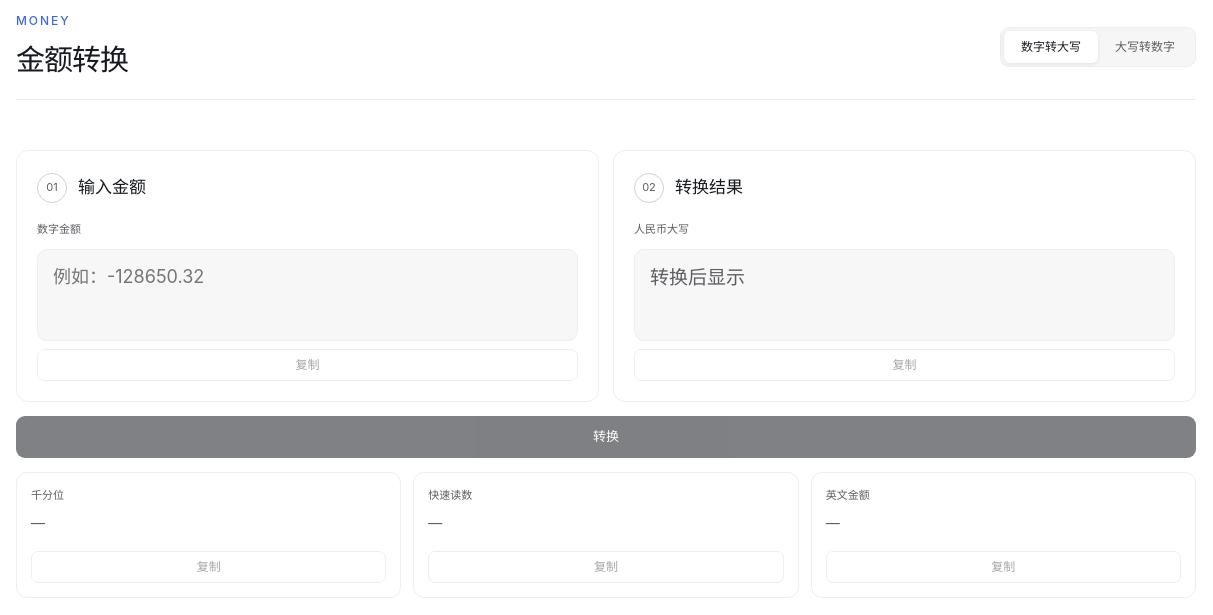
keeps invalid input visible and shows the API error inline
Step 1. Type "1.001" into the text box labelled "数字金额" → (308, 294), box [53,262,562,326]
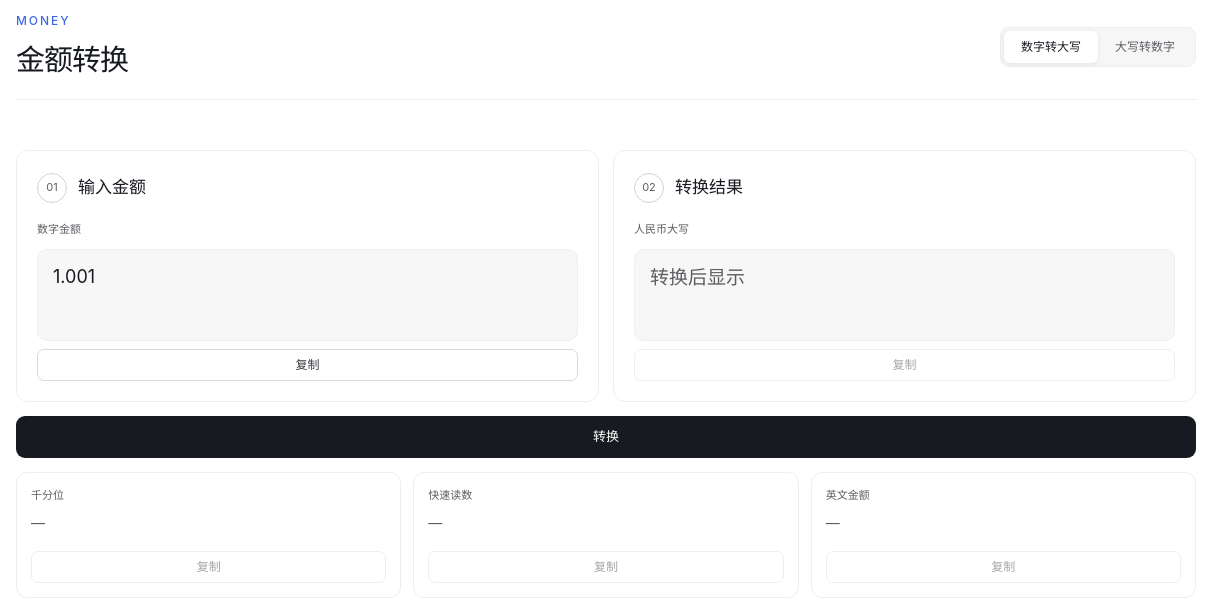
Step 2. Click the button "转换" → (606, 436), box [16,416,1196,458]
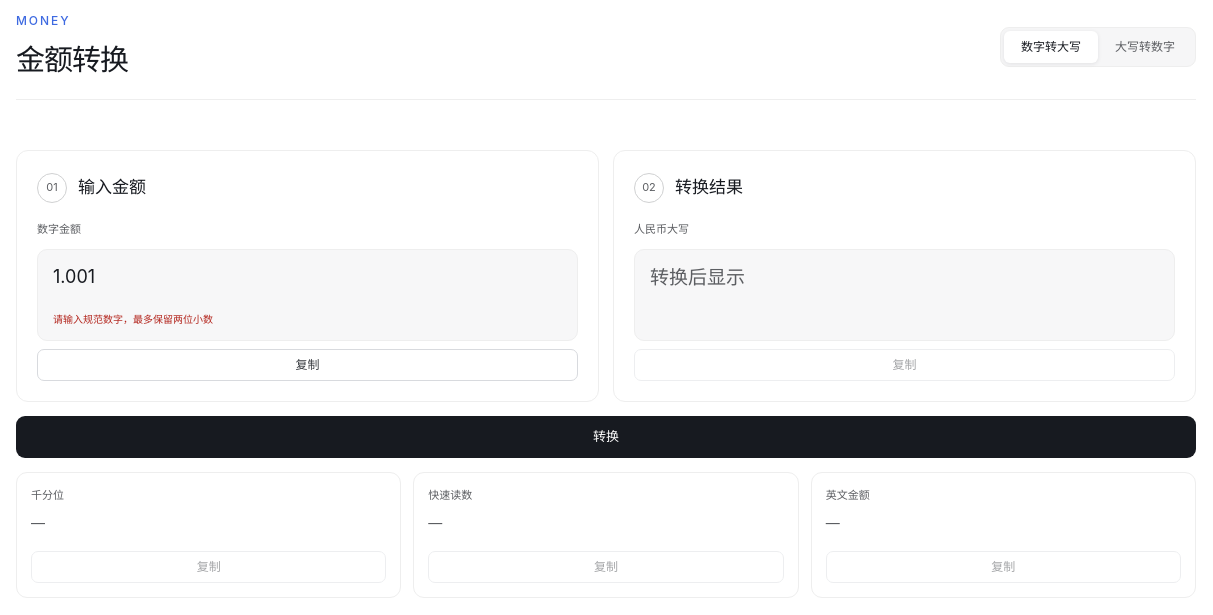
Expected: the button with aria-label "复制转换结果" is disabled, [634,348,1175,380]
Expected: the message reads "请输入规范数字，最多保留两位小数", [53,313,213,325]
